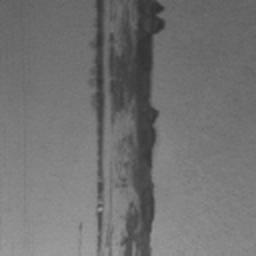Slag inclusion: (90, 0, 168, 256)
